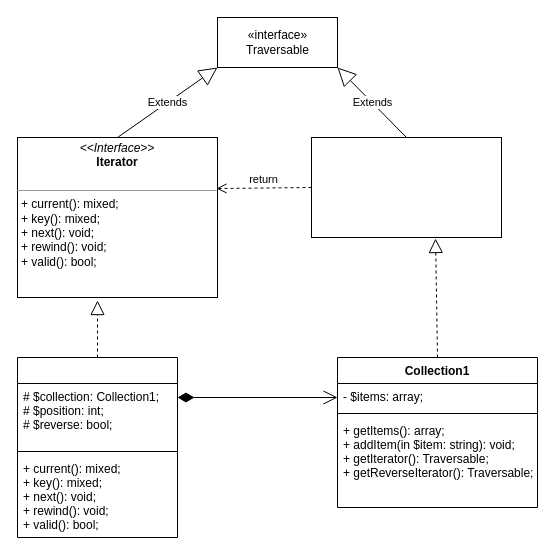
The diagram is 555 pixels wide and 558 high, and some of its shapes have lost their labels. Here are the shapes that lost their labels. From the top down, the box of each, then its label:
(310, 136, 502, 238): <<Interface>> IteratorAggregate + getIterator(): Traversable;
(16, 356, 178, 538): Iterator1
